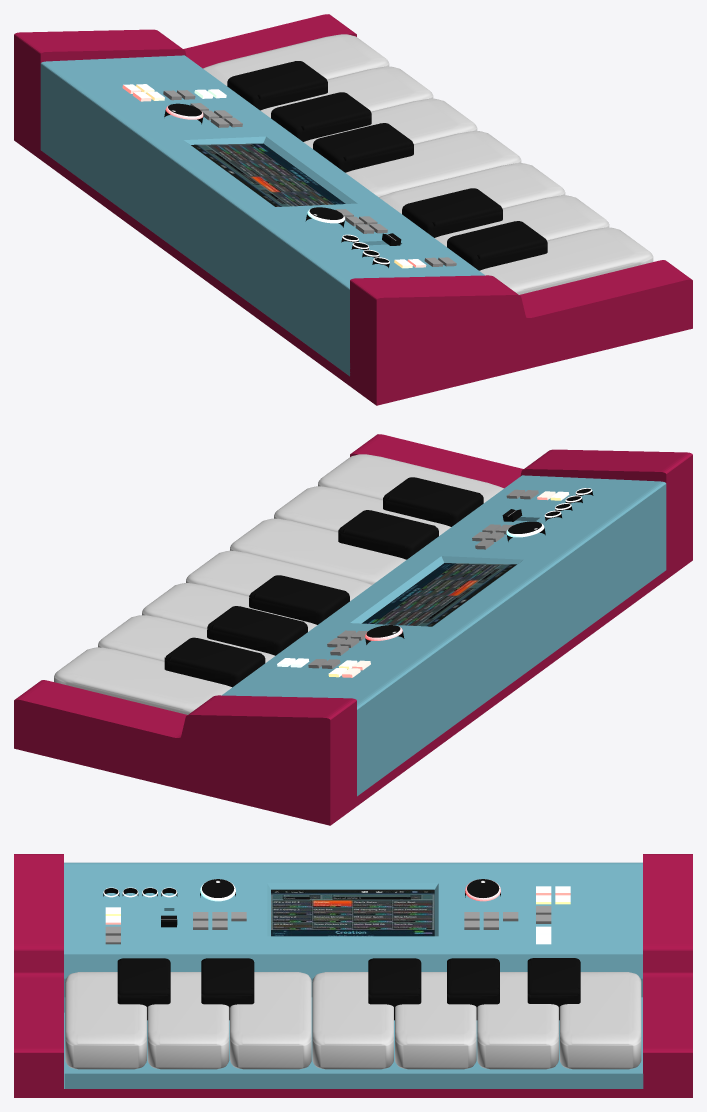
The model's file is ChunkySynth.glb.
The picture shows the model from 3 angles, top to bottom: view 1: azimuth 30°, elevation 25°; view 2: azimuth 150°, elevation 25°; view 3: azimuth 270°, elevation 25°; orthographic projection. The views are drawn at different scales.
Visible parts, largest first — view 1: Support, Side.002, White, White.003, White.006, White.002, White.001, Black.002, Black.004, Black.005, Black.001, Black (+2 smaller); view 2: Support, Side.002, White.006, White.002, White.003, White, White.001, Black.005, Black.001, Black.004, Black.002, Black (+2 smaller); view 3: Support, Side.002, White.006, White.002, White.003, White, White.001, White.005, White.004, Black.005, Black.001, Black.002 (+4 smaller).
Part boxes in pixels (x1,y1,x2,y2): Support: (40, 55, 485, 376); Side.002: (14, 14, 692, 405); White: (479, 227, 653, 294); White.003: (345, 131, 521, 196); White.006: (203, 34, 389, 85); White.002: (379, 163, 565, 213); White.001: (435, 195, 609, 246); Black.002: (402, 188, 502, 237); Black.004: (271, 92, 371, 141); Black.005: (313, 123, 413, 172); Black.001: (447, 221, 547, 270); Black: (227, 61, 327, 110); Support: (221, 475, 666, 796); Side.002: (14, 434, 692, 825); White.006: (54, 647, 231, 714); White.002: (230, 518, 406, 584); White.003: (186, 550, 371, 600); White: (318, 454, 503, 502); White.001: (274, 486, 450, 535); Black.005: (249, 575, 349, 624); Black.001: (383, 477, 483, 526); Black.004: (207, 606, 307, 655); Black.002: (338, 510, 438, 559); Black: (164, 637, 265, 687); Support: (64, 862, 643, 1088); Side.002: (14, 854, 692, 1097); White.006: (559, 972, 641, 1069); White.002: (230, 972, 311, 1069); White.003: (312, 972, 393, 1069); White: (65, 972, 146, 1069); White.001: (147, 972, 229, 1069); White.005: (477, 972, 558, 1069); White.004: (395, 972, 476, 1069); Black.005: (368, 958, 421, 1020); Black.001: (117, 958, 170, 1020); Black.002: (201, 958, 254, 1020).
Size of the model in its own units: 3.2 by 1.03 by 6.34.
14 materials, 1 textured.
